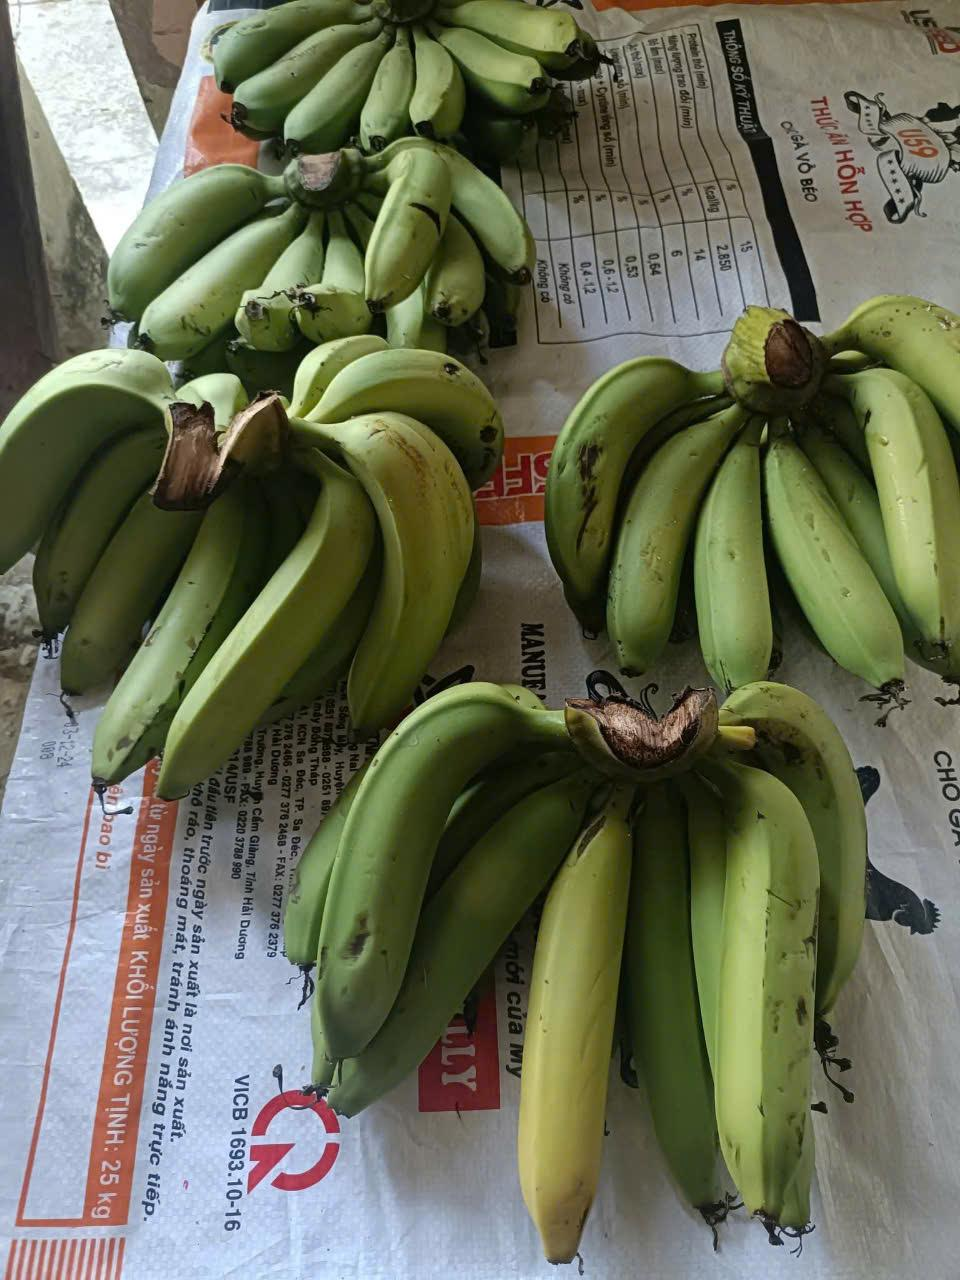banana: (257, 693, 587, 1275), (633, 673, 902, 1268), (210, 360, 495, 733), (527, 303, 775, 688), (0, 343, 210, 762), (770, 283, 960, 705), (193, 0, 645, 151), (303, 137, 537, 357), (117, 107, 313, 343)
